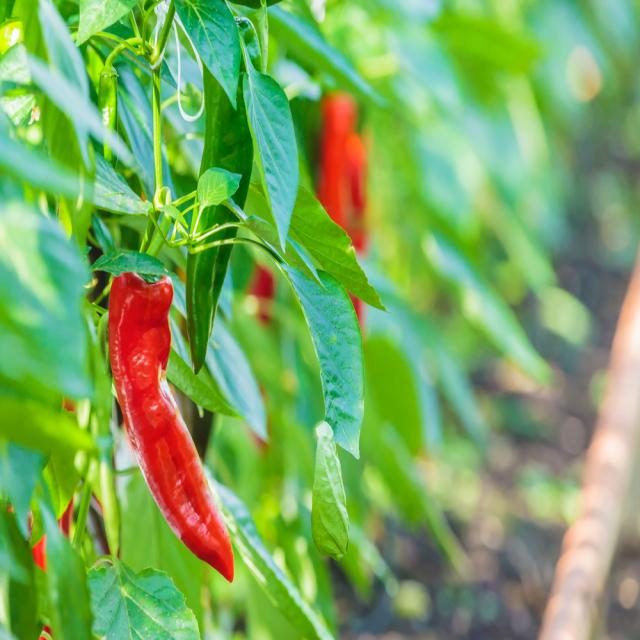Ripe: (109, 274, 234, 581)
